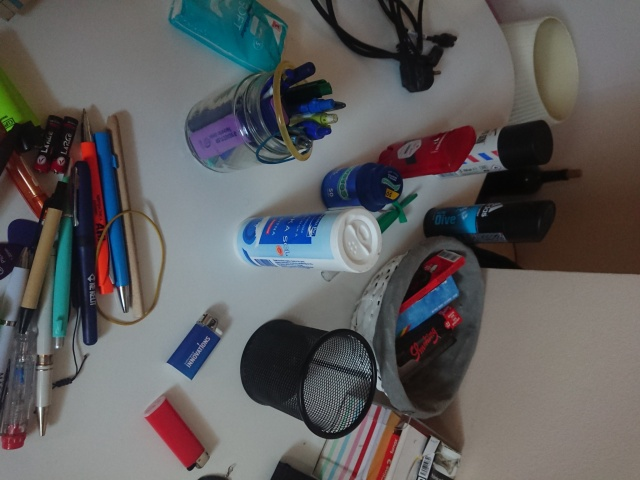Solana Pag Fine Sea Salt 250g: (230, 207, 384, 276)
